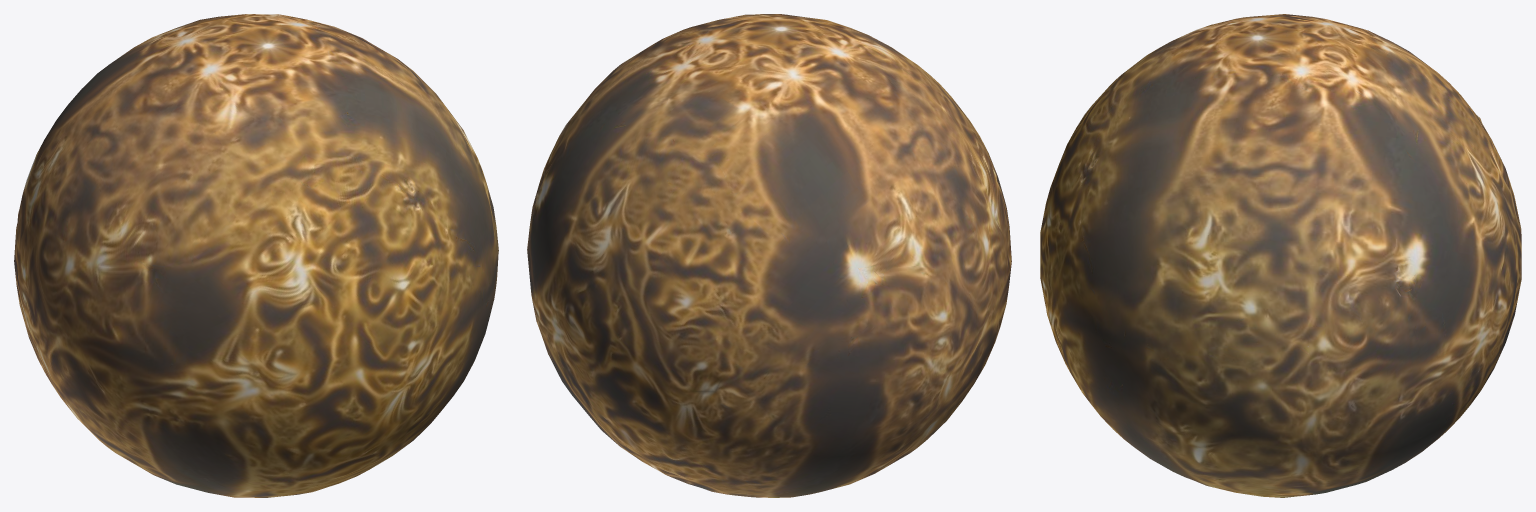
File: callisto.glb
3 views of the same model, side by side, from view 1: azimuth 30°, elevation 25°; view 2: azimuth 150°, elevation 25°; view 3: azimuth 270°, elevation 25° (orthographic).
Visible parts, largest first — view 1: Mesh1.0; view 2: Mesh1.0; view 3: Mesh1.0.
Part boxes in pixels (bbox=[...]): Mesh1.0: bbox=[14, 14, 498, 497]; Mesh1.0: bbox=[527, 14, 1011, 497]; Mesh1.0: bbox=[1040, 14, 1521, 497].
Bounding box in the file's own units: 1.91 × 1.91 × 1.91.
Materials: 1 (1 with a texture image).
